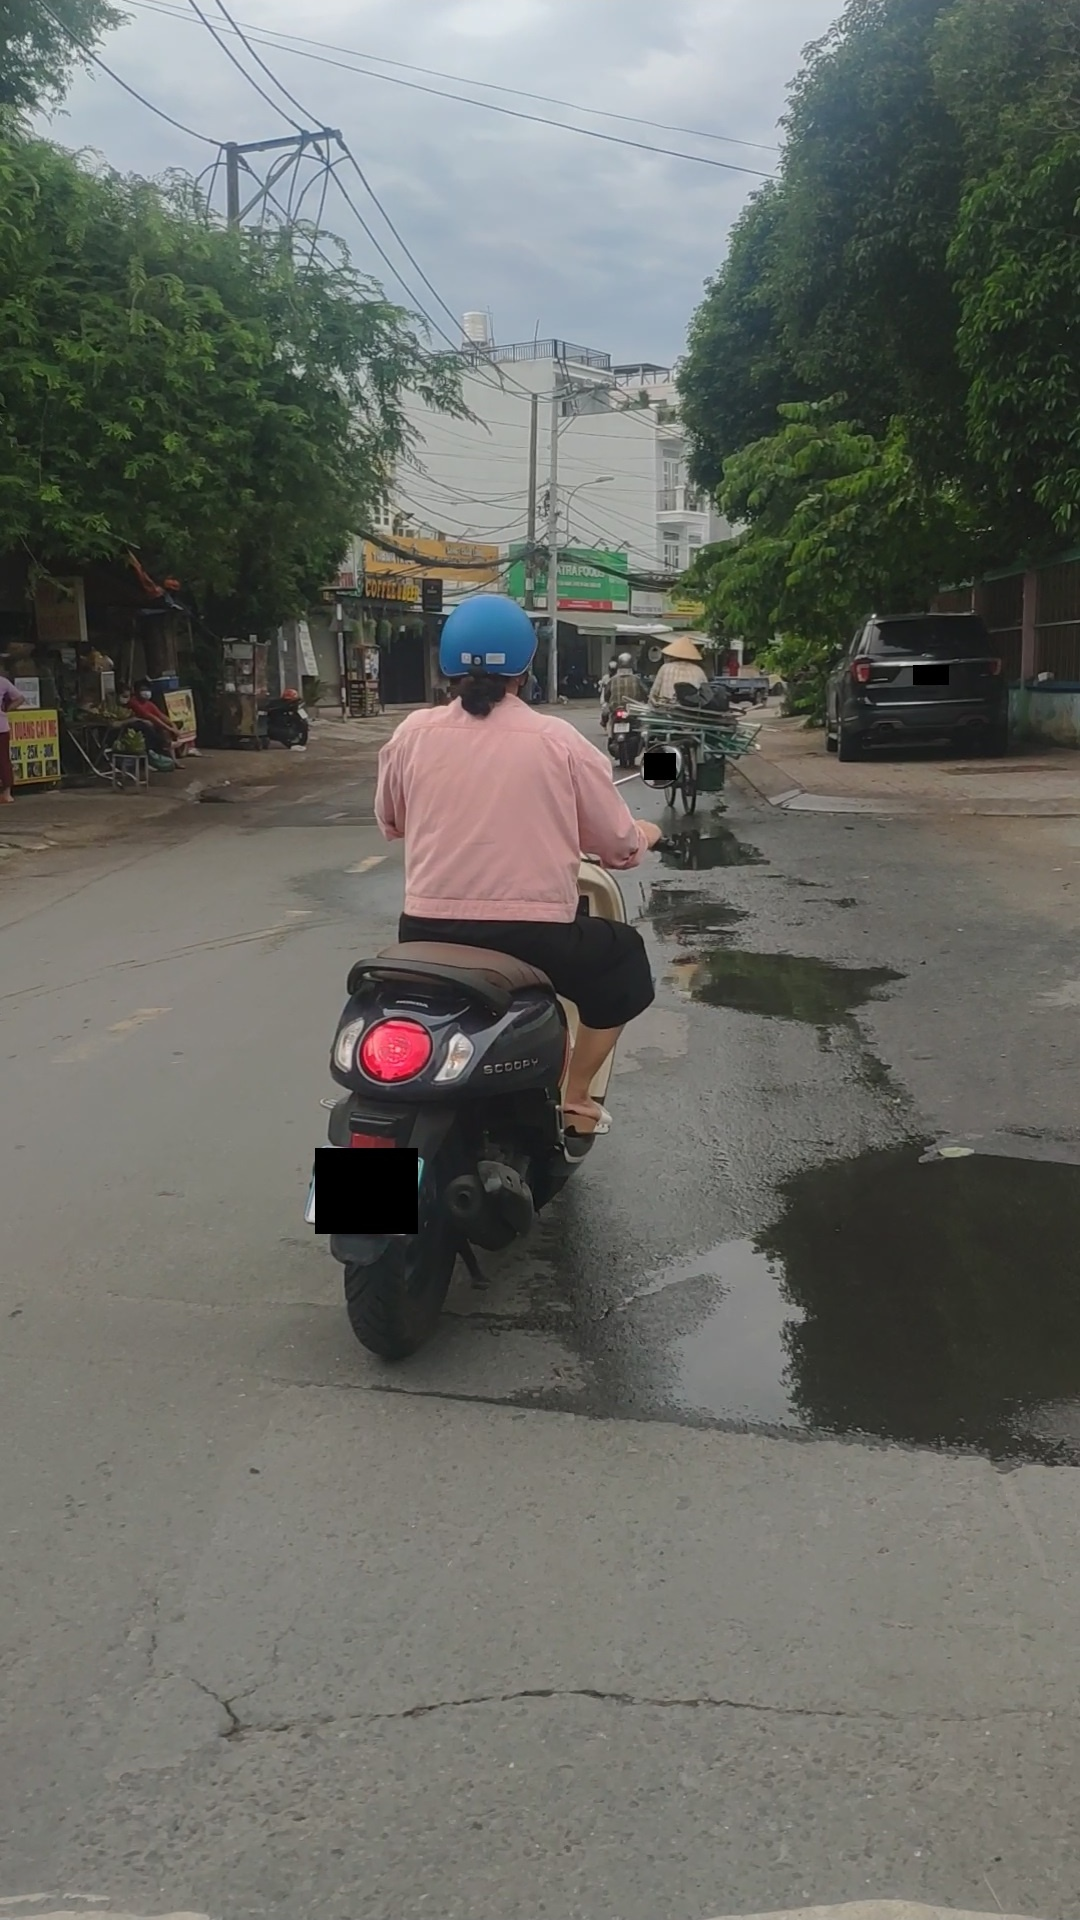hole: (669, 1154, 1080, 1440), (673, 945, 909, 1031), (640, 876, 756, 936), (679, 819, 779, 874)
